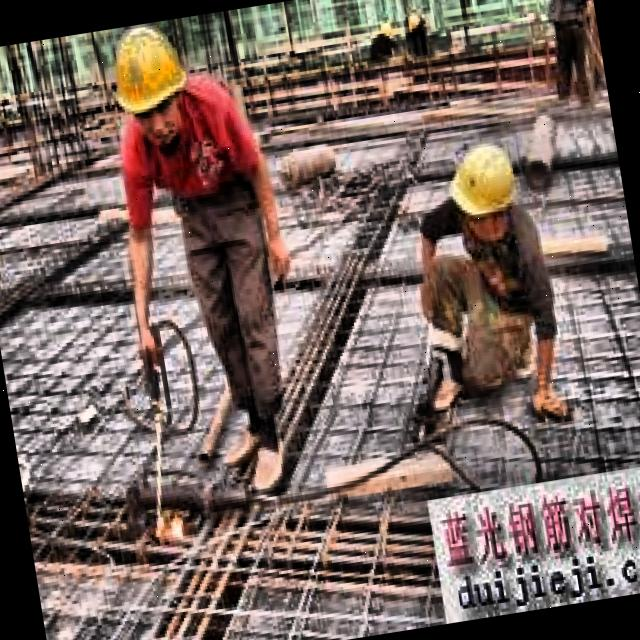helmet: (98, 17, 205, 152), (440, 132, 530, 246)
